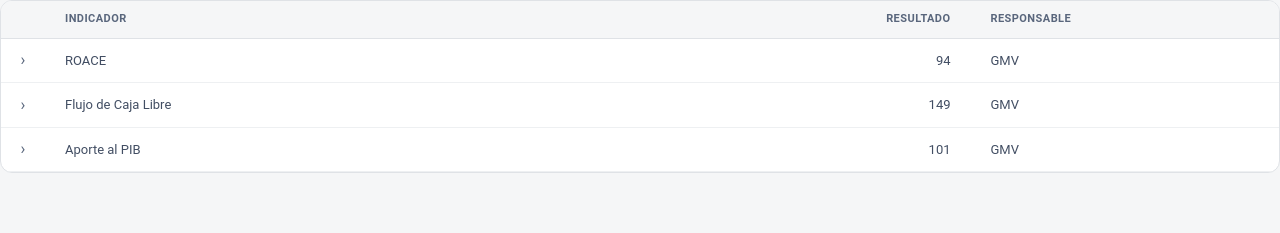
Test case: DataTable › expandable rows › keeps one row open with singleExpand
This screenshot has width=1280, height=233.
Step 1. Click the button named "Detalle de ROACE" → click(23, 60), box top-left (11, 48), bottom-right (35, 72)
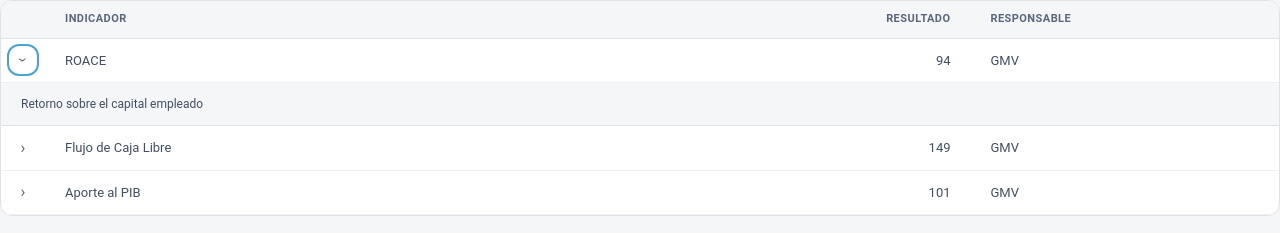
Step 2. Click the button named "Detalle de Aporte al PIB" → click(23, 192), box top-left (11, 180), bottom-right (35, 204)
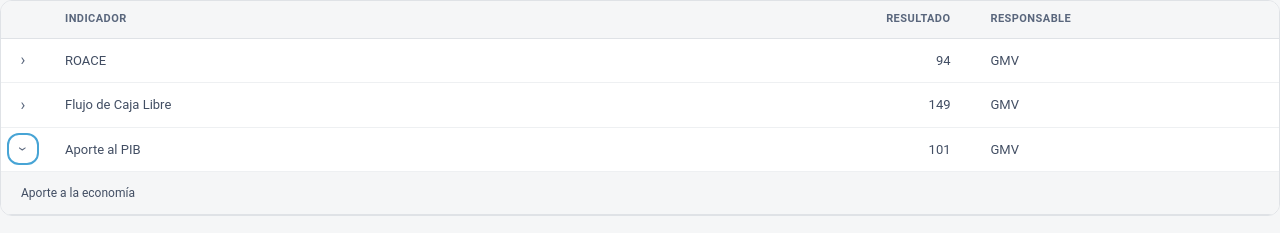
Expected: the button named "Detalle de ROACE" is collapsed, top-left (11, 48), bottom-right (35, 72)
Expected: the button named "Detalle de Aporte al PIB" is expanded, top-left (11, 137), bottom-right (35, 161)
